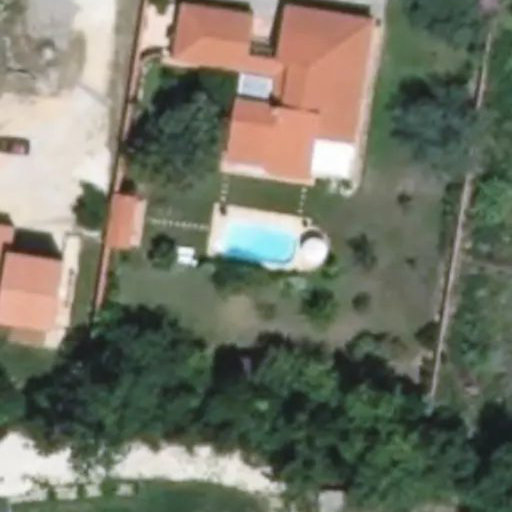pool: (219, 214, 306, 271)
